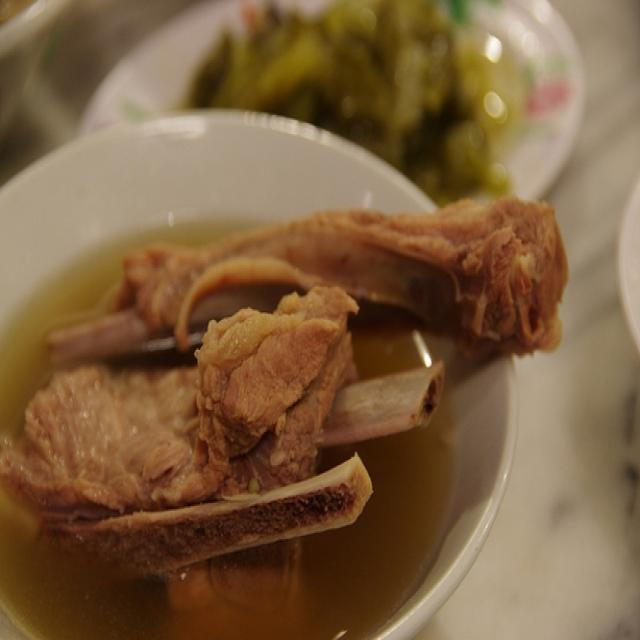汤锅炖物: (8, 63, 552, 607)
